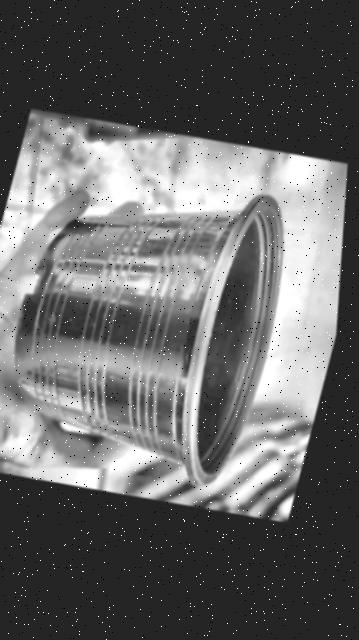pot: (12, 195, 280, 485)
